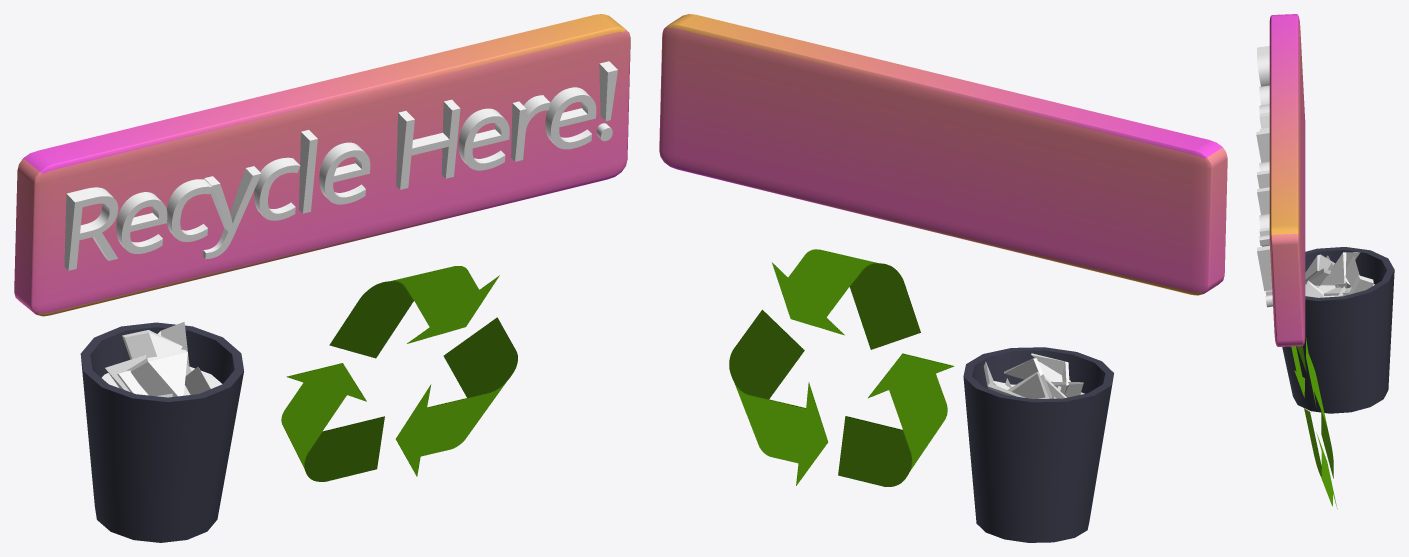
Rendered from Project Name.obj.
The picture shows the model from 3 angles, left to right: view 1: azimuth 30°, elevation 25°; view 2: azimuth 150°, elevation 25°; view 3: azimuth 270°, elevation 25°; orthographic projection. The views are drawn at different scales.
Parts seen in each view (by area): view 1: 012_background_-_social_good, 013_Trash_can, 015_recycle_PNG32, 014_Paper, 007_H, 000_R, 006_e, 008_e, 010_e, 001_e, 003_y, 002_c (+4 smaller); view 2: 012_background_-_social_good, 015_recycle_PNG32, 013_Trash_can, 014_Paper; view 3: 013_Trash_can, 012_background_-_social_good, 014_Paper, 015_recycle_PNG32, 011_!, 007_H, 000_R, 005_l, 001_e, 009_r, 003_y.
Boxes of the visible parts, bbox=[...] form: 012_background_-_social_good: bbox=[14, 14, 630, 316]; 013_Trash_can: bbox=[80, 322, 243, 542]; 015_recycle_PNG32: bbox=[281, 266, 517, 481]; 014_Paper: bbox=[102, 322, 222, 397]; 007_H: bbox=[396, 99, 460, 189]; 000_R: bbox=[64, 187, 118, 270]; 006_e: bbox=[319, 142, 370, 204]; 008_e: bbox=[458, 108, 509, 170]; 010_e: bbox=[545, 87, 596, 149]; 001_e: bbox=[116, 192, 167, 253]; 003_y: bbox=[203, 166, 261, 259]; 002_c: bbox=[167, 179, 212, 241]; 012_background_-_social_good: bbox=[659, 14, 1227, 295]; 015_recycle_PNG32: bbox=[729, 249, 954, 486]; 013_Trash_can: bbox=[963, 347, 1113, 542]; 014_Paper: bbox=[983, 353, 1084, 398]; 013_Trash_can: bbox=[1282, 247, 1394, 413]; 012_background_-_social_good: bbox=[1269, 14, 1305, 346]; 014_Paper: bbox=[1305, 252, 1374, 297]; 015_recycle_PNG32: bbox=[1291, 338, 1337, 508]; 011_!: bbox=[1257, 245, 1272, 307]; 007_H: bbox=[1257, 170, 1269, 214]; 000_R: bbox=[1257, 46, 1269, 86]; 005_l: bbox=[1256, 130, 1269, 162]; 001_e: bbox=[1259, 85, 1269, 105]; 009_r: bbox=[1259, 228, 1269, 246]; 003_y: bbox=[1259, 112, 1269, 131].
Bounding box in the file's own units: 301 × 214 × 78.42.
5 materials, 2 textured.
